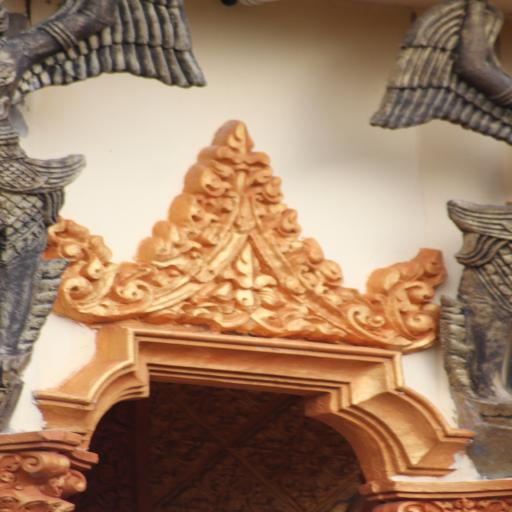la: (46, 215, 154, 323), (371, 251, 454, 346), (213, 238, 286, 308), (243, 298, 348, 344), (273, 233, 345, 287), (152, 296, 250, 332), (204, 117, 269, 167), (123, 225, 210, 262), (257, 198, 307, 237), (246, 169, 294, 202), (177, 196, 229, 226), (182, 166, 236, 194)
than: (0, 0, 181, 422), (389, 0, 512, 402)
